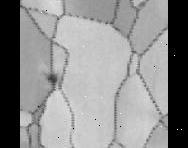good_void: (47, 72, 58, 84)
